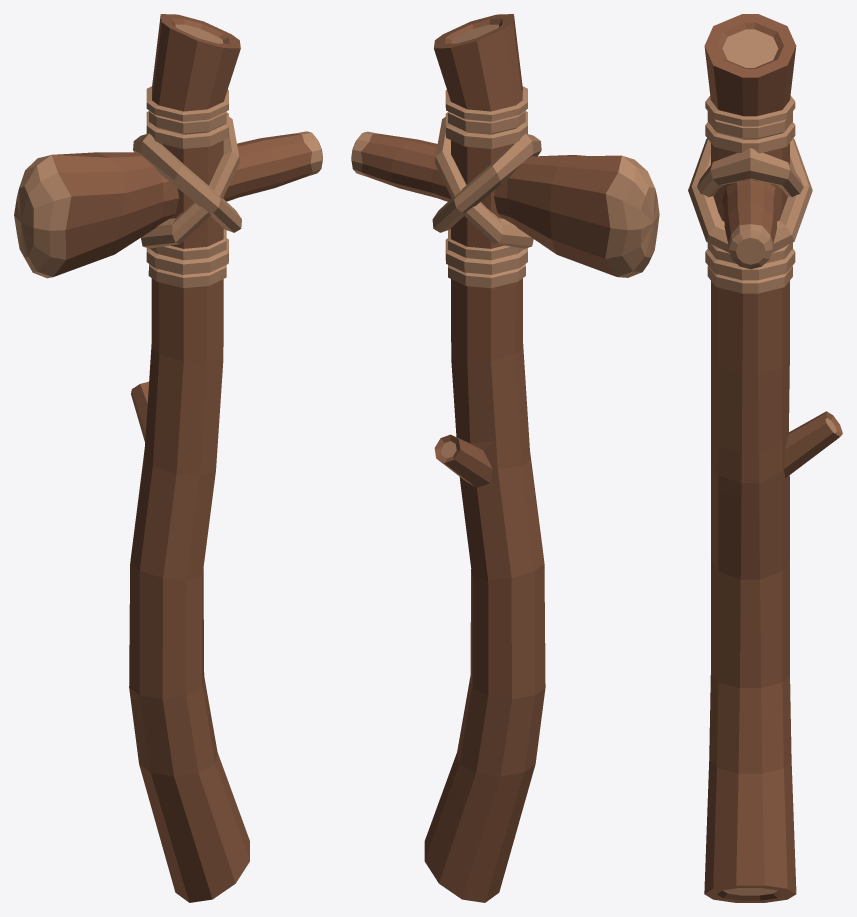
Rendered from Wooden Axe.fbx.
The picture shows the model from 3 angles, left to right: view 1: azimuth 30°, elevation 25°; view 2: azimuth 150°, elevation 25°; view 3: azimuth 270°, elevation 25°; orthographic projection.
Parts seen in each view (by area): view 1: Wooden Axe; view 2: Wooden Axe; view 3: Wooden Axe.
Boxes of the visible parts, left/top/right/bottom form: Wooden Axe: left=14, top=14, right=322, bottom=902; Wooden Axe: left=351, top=14, right=659, bottom=902; Wooden Axe: left=688, top=14, right=842, bottom=902.
Size of the model in its own units: 44.54 by 127 by 20.2.
